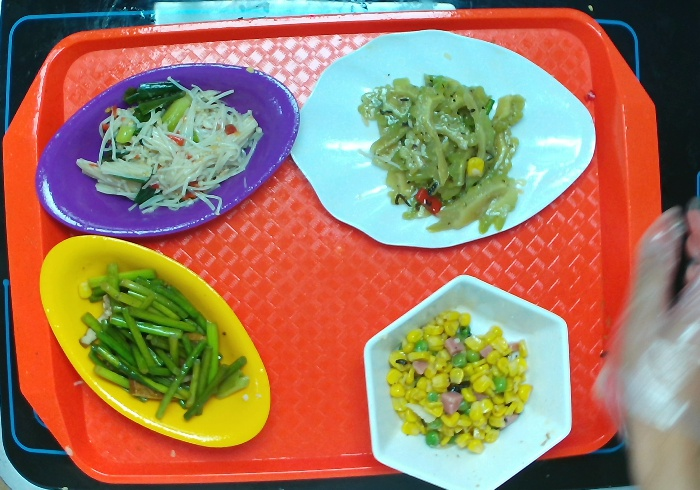RJxy-Bai_Ye_Pan: (289, 27, 598, 251)
RJxy-Fen_Hong_Tuo_Yuan: (34, 60, 302, 238)
RJxy-Huang_Se_Tuo_Yuan: (38, 233, 273, 450)
RJxy-Liu_Jiao_Wan: (361, 272, 575, 490)
